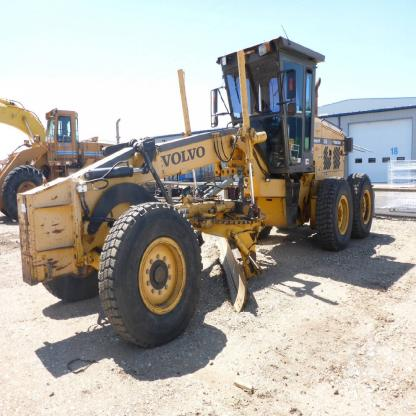bull_dozer/loader/grader: (20, 29, 380, 348)
